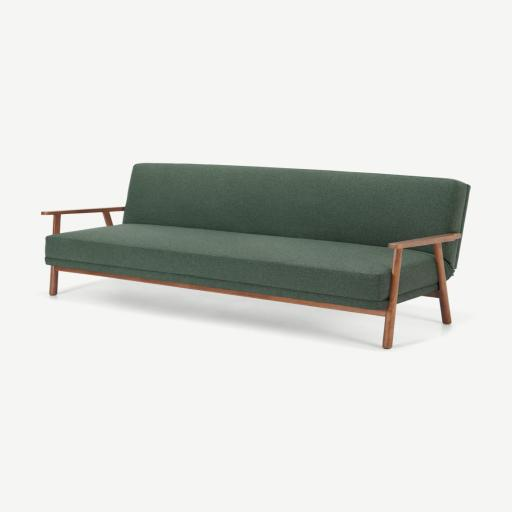back_cushion: (123, 163, 469, 246)
left_arm: (382, 233, 461, 349)
legs: (50, 267, 395, 348), (428, 282, 451, 324)
right_arm: (41, 207, 124, 234)
seat_cushion: (46, 223, 392, 308), (399, 250, 436, 299)
two-seater: (0, 0, 511, 512)
